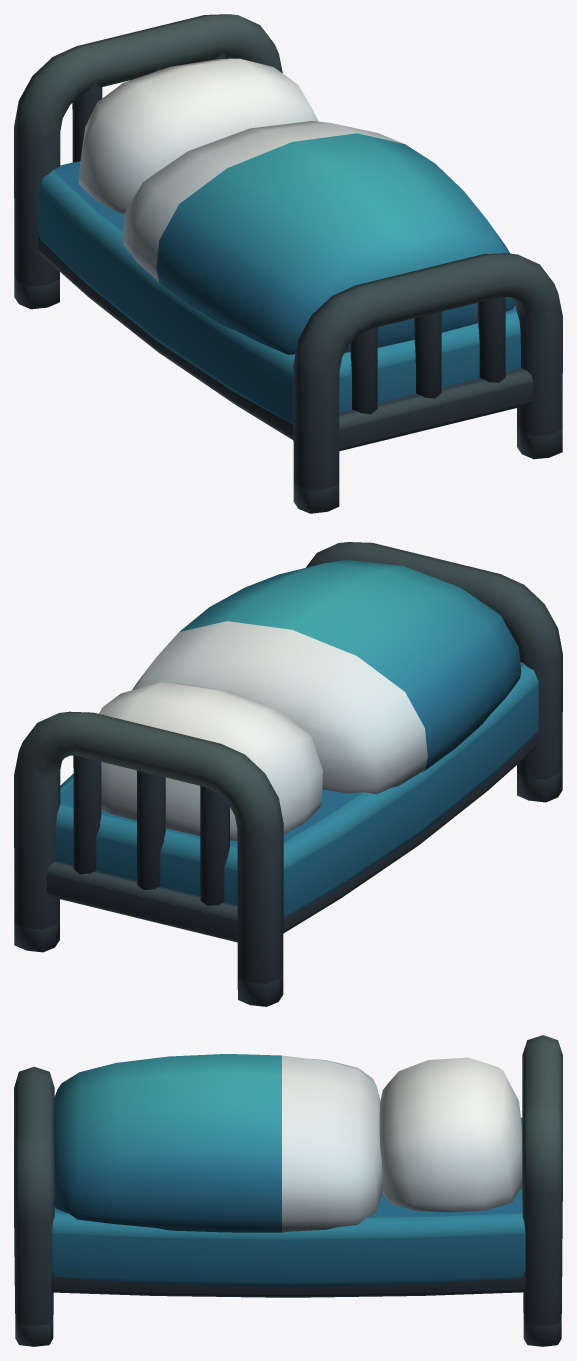
The model's file is bed1_LOD_setup.fbx.
The picture shows the model from 3 angles, top to bottom: view 1: azimuth 30°, elevation 25°; view 2: azimuth 150°, elevation 25°; view 3: azimuth 270°, elevation 25°; orthographic projection. The views are drawn at different scales.
Visible parts, largest first — view 1: bed1_LOD0; view 2: bed1_LOD0; view 3: bed1_LOD0.
Part boxes in pixels (bbox=[...]): bed1_LOD0: bbox=[14, 14, 562, 513]; bed1_LOD0: bbox=[14, 542, 562, 1006]; bed1_LOD0: bbox=[14, 1035, 562, 1346].
Size of what is drawn, in the model's own units: 106 by 90.49 by 205.
